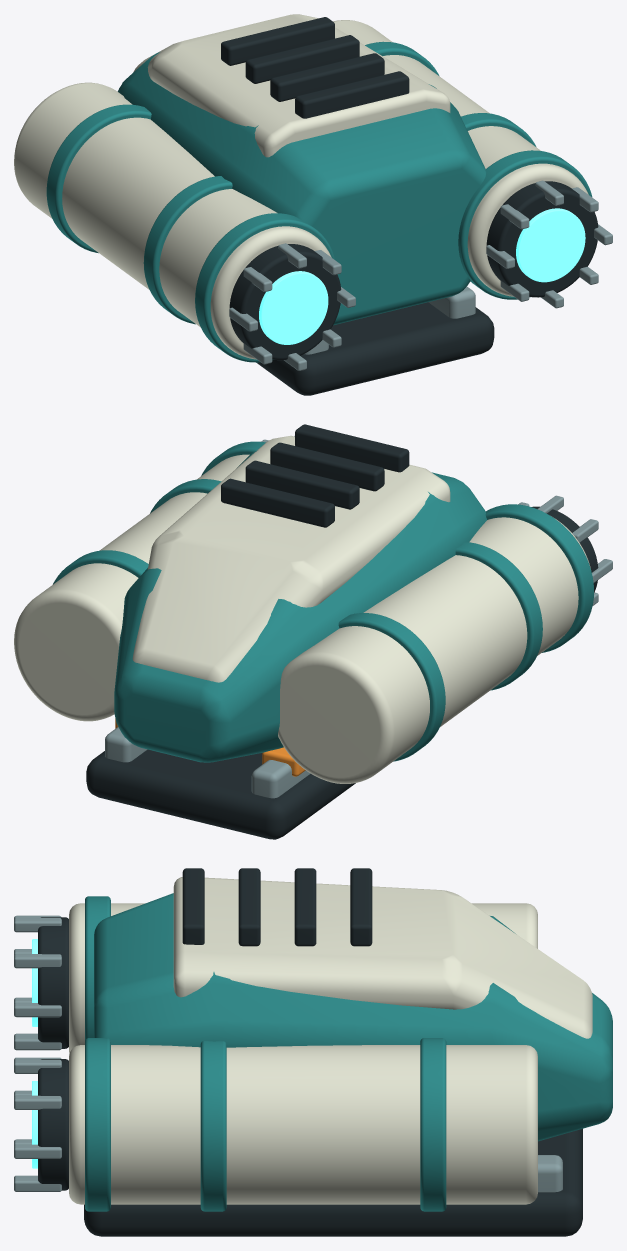
Rendered from vector_drive.glb.
3 renders of one model, top to bottom at view 1: azimuth 30°, elevation 25°; view 2: azimuth 150°, elevation 25°; view 3: azimuth 270°, elevation 25°, orthographic. The views are drawn at different scales.
Visible parts, largest first — view 1: Aerodynamic power spine, Heat shield, Load bearing coupling, Plasma aperture, Quick release rail; view 2: Heat shield, Aerodynamic power spine, Load bearing coupling, Quick release rail; view 3: Heat shield, Aerodynamic power spine, Load bearing coupling, Quick release rail, Plasma aperture.
Boxes of the visible parts, <box> form: Aerodynamic power spine: <box>46,41,592,362</box>; Heat shield: <box>14,14,588,359</box>; Load bearing coupling: <box>221,17,598,395</box>; Plasma aperture: <box>259,208,585,344</box>; Quick release rail: <box>229,180,612,370</box>; Heat shield: <box>14,435,590,783</box>; Aerodynamic power spine: <box>53,441,593,762</box>; Load bearing coupling: <box>86,424,598,839</box>; Quick release rail: <box>105,436,612,798</box>; Heat shield: <box>69,877,592,1204</box>; Aerodynamic power spine: <box>85,893,612,1211</box>; Load bearing coupling: <box>38,868,582,1236</box>; Quick release rail: <box>14,915,562,1192</box>; Plasma aperture: <box>32,939,37,1168</box>.
Size of the model in its own units: 2.55 by 1.61 by 3.
